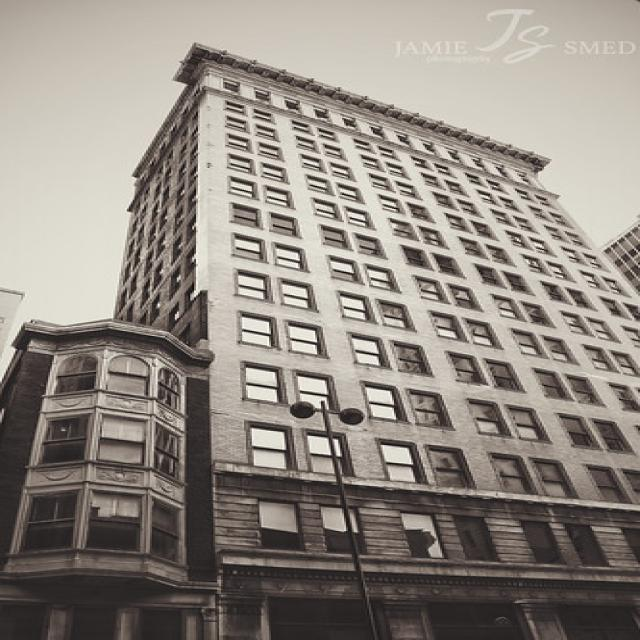building: (109, 36, 637, 640)
